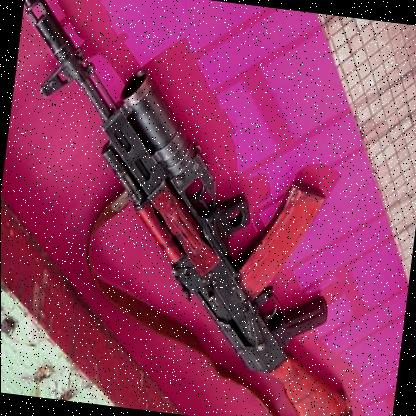rifle: (0, 9, 394, 416)
